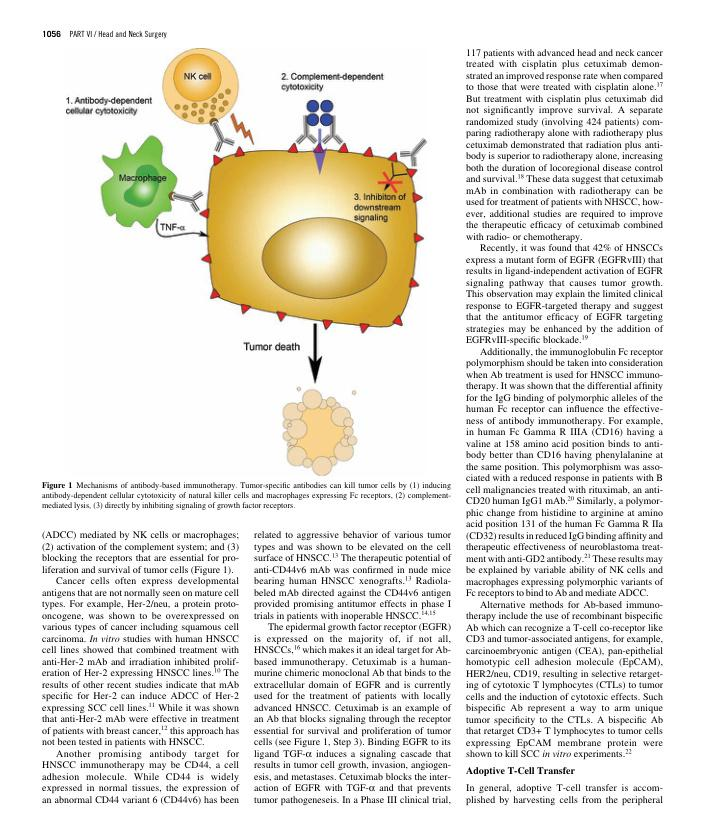caption: (40, 480, 453, 511)
header: (69, 29, 168, 40)
image: (53, 43, 440, 478)
sub-section-heading: (465, 764, 577, 777)
text: (463, 46, 666, 761), (39, 528, 241, 806), (252, 529, 452, 807), (465, 782, 664, 808)
